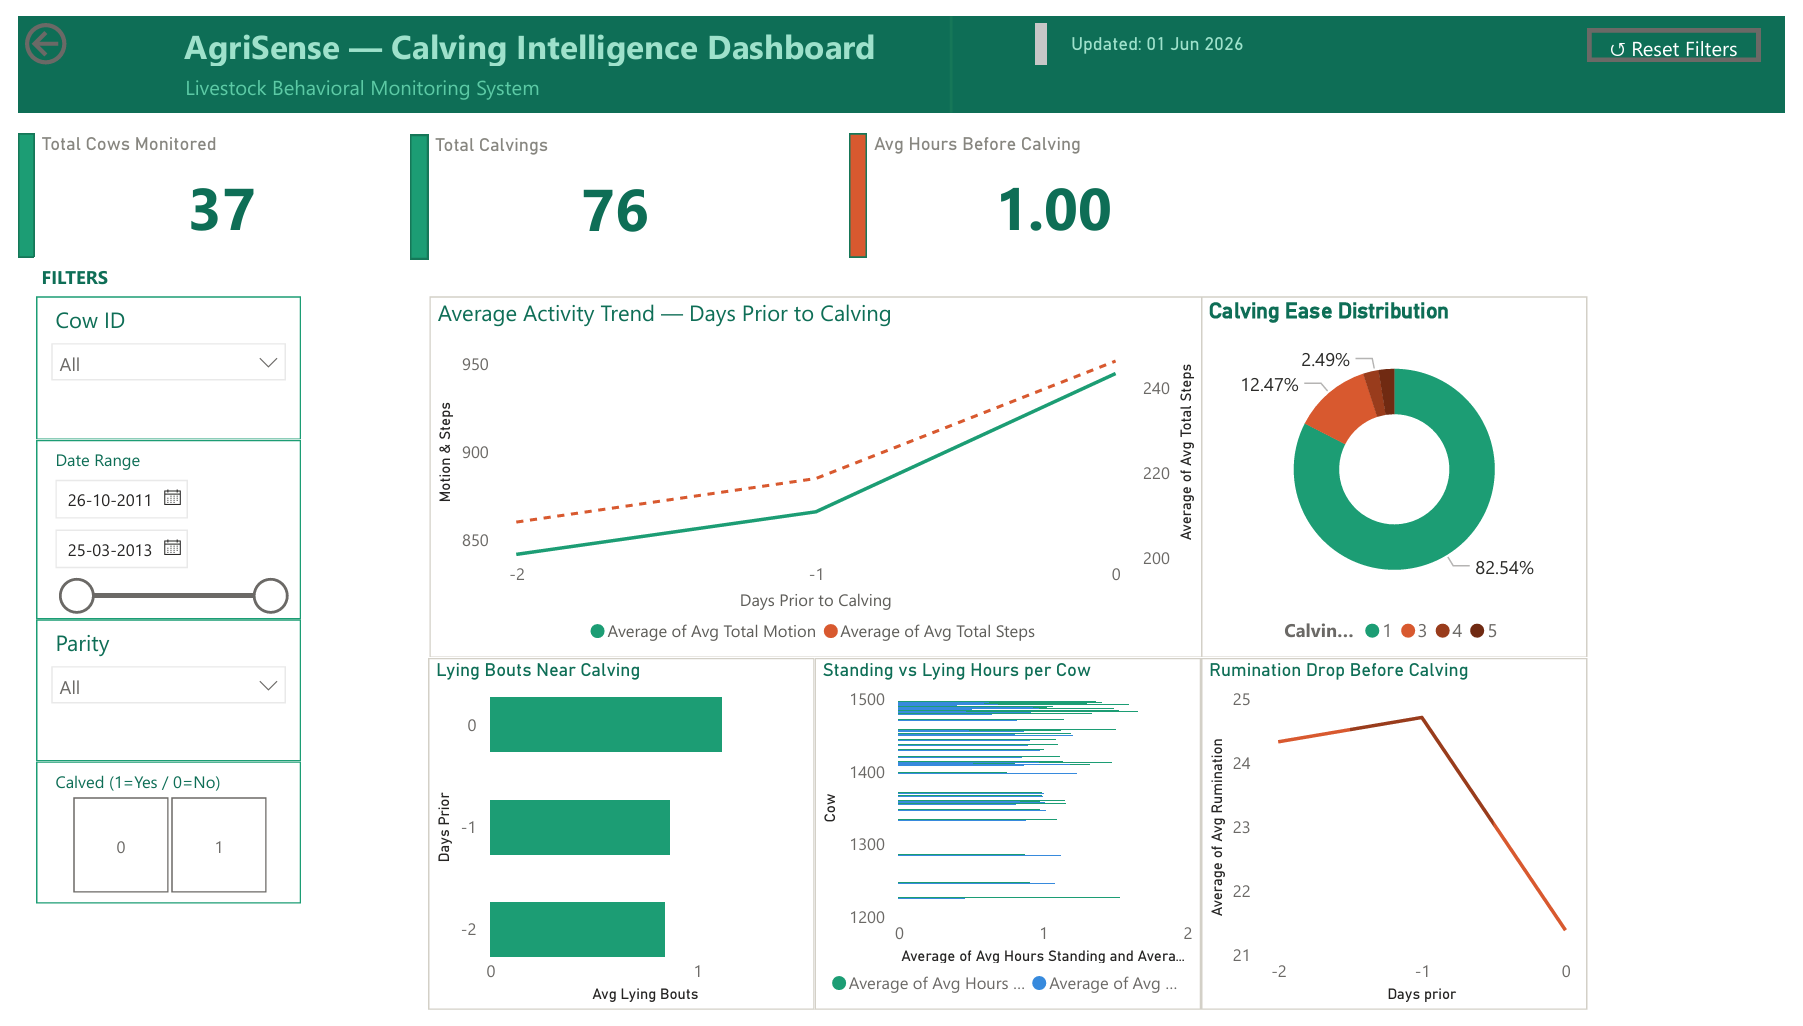

What the dashboard file says about the page in this screenshot:
{"tool":"powerbi","page":{"name":"Executive Overview","canvas":[1280,720],"ordinal":0},"visuals":[{"type":"shape","box":[0,0,1280,70],"z":0},{"type":"textbox","box":[0,0,750,41.4],"z":1000},{"type":"textbox","box":[115.7,35.7,394.3,150],"z":2000},{"type":"card","title":"Total Cows Monitored","fields":{"Values":["hour__1_1.Total Cows"]},"box":[11.7,85,271.7,90],"z":3000},{"type":"shape","box":[0,85,11.7,90],"z":4000},{"type":"card","title":"Total Calvings","fields":{"Values":["hour__1_1.Total Calvings"]},"box":[296.7,85.6,271.1,90],"z":5000},{"type":"card","title":"Avg Hours Before Calving","fields":{"Values":["hour__1_1.Avg Hrs Before Calving"]},"box":[615,85,270,90],"z":7000},{"type":"shape","box":[284.4,85.6,12.2,90],"z":8000},{"type":"shape","box":[601.7,85,13.3,90],"z":10000},{"type":"card","fields":{"Values":["hour__1_1.Last Refreshed"]},"box":[750,2.9,151.4,35.7],"z":11000},{"type":"actionButton","title":"Export PDF ","box":[1137,9,125,24],"z":13000},{"type":"shape","box":[601.7,0,148.3,70],"z":14000},{"type":"shape","box":[0,175,280,468.3],"z":15000},{"type":"slicer","title":"Cow ID","fields":{"Values":["hour__1_1.Cow"]},"box":[13.3,203.3,191.7,103.3],"z":16000},{"type":"slicer","title":"Cow ID","fields":{"Values":["hour__1_1.Date"]},"box":[13.3,306.7,191.7,130],"z":17000},{"type":"slicer","title":"Cow ID","fields":{"Values":["hour__1_1.Parity"]},"box":[13.3,436.7,191.7,103.3],"z":18000},{"type":"slicer","title":"Cow ID","fields":{"Values":["hour__1_1.Calved"]},"box":[13.3,540,191.7,103.3],"z":19000},{"type":"textbox","box":[11.7,175,193.3,28.3],"z":20000},{"type":"lineChart","title":"Average Activity Trend — Days Prior to Calving","fields":{"Category":["hour__1_1.Days prior"],"Y":["Avg(hour__1_1.Avg Total Motion)"],"Y2":["Avg(hour__1_1.Avg Total Steps)"]},"box":[298.3,203.3,560,261.7],"z":21000},{"type":"donutChart","title":"Calving Ease Distribution","fields":{"Category":["hour__1_1.Calving ease score"],"Y":["CountNonNull(hour__1_1.Cow)"]},"box":[856.7,203.3,280,261.7],"z":22000},{"type":"clusteredBarChart","title":"Lying Bouts Near Calving","fields":{"Category":["hour__1_1.Days prior"],"Y":["Avg(hour__1_1.Avg Lying Bouts)"]},"box":[297,465,280,255],"z":23000},{"type":"clusteredBarChart","title":"Standing vs Lying Hours per Cow","fields":{"Category":["hour__1_1.Cow"],"Y":["Avg(hour__1_1.Avg Hours Standing)","Avg(hour__1_1.Avg Hours Lying)"]},"box":[576.7,465,280,255],"z":24000},{"type":"lineChart","title":"Rumination Drop Before Calving","fields":{"Category":["hour__1_1.Days prior"],"Y":["Avg(hour__1_1.Avg Rumination)"]},"box":[856.7,465,280,255],"z":25000},{"type":"actionButton","box":[0,0,100,40],"z":25001}]}

Visuals, with their boxes in screenshot pixels (x1, y1, x2, y2), scaled from the page's 1280x720 canvas onto the 1803x1026 screenshot:
shape: <box>0,0,1802,100</box>
textbox: <box>0,0,1056,59</box>
textbox: <box>163,51,718,265</box>
"Total Cows Monitored" card: <box>16,121,399,249</box>
shape: <box>0,121,16,249</box>
"Total Calvings" card: <box>418,122,800,250</box>
"Avg Hours Before Calving" card: <box>866,121,1247,249</box>
shape: <box>401,122,418,250</box>
shape: <box>848,121,866,249</box>
card - hour__1_1.Last Refreshed: <box>1056,4,1270,55</box>
"Export PDF " actionButton: <box>1602,13,1778,47</box>
shape: <box>848,0,1056,100</box>
shape: <box>0,249,394,917</box>
"Cow ID" slicer: <box>19,290,289,437</box>
"Cow ID" slicer: <box>19,437,289,622</box>
"Cow ID" slicer: <box>19,622,289,770</box>
"Cow ID" slicer: <box>19,770,289,917</box>
textbox: <box>16,249,289,290</box>
"Average Activity Trend — Days Prior to Calving" lineChart: <box>420,290,1209,663</box>
"Calving Ease Distribution" donutChart: <box>1207,290,1601,663</box>
"Lying Bouts Near Calving" clusteredBarChart: <box>418,663,813,1025</box>
"Standing vs Lying Hours per Cow" clusteredBarChart: <box>812,663,1207,1025</box>
"Rumination Drop Before Calving" lineChart: <box>1207,663,1601,1025</box>
actionButton: <box>0,0,141,57</box>
